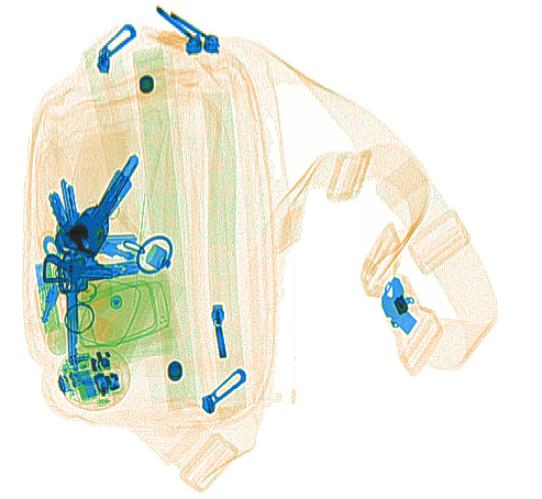USBFlashDisk: (29, 258, 62, 339)
